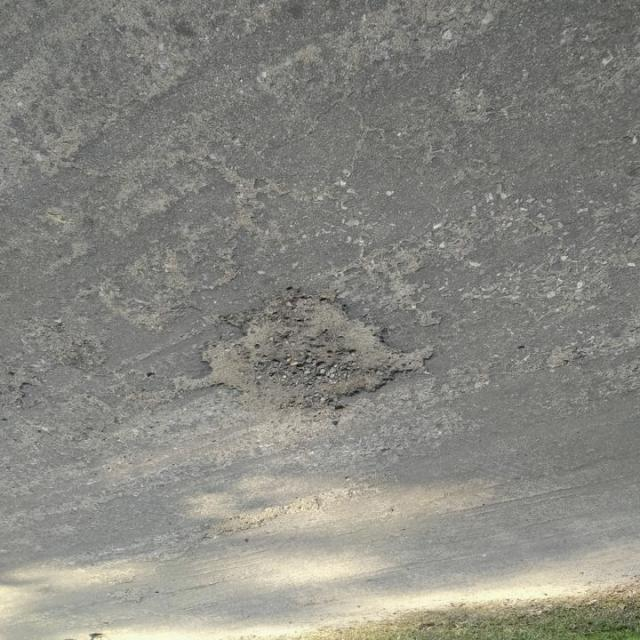pothole: (173, 288, 463, 428)
